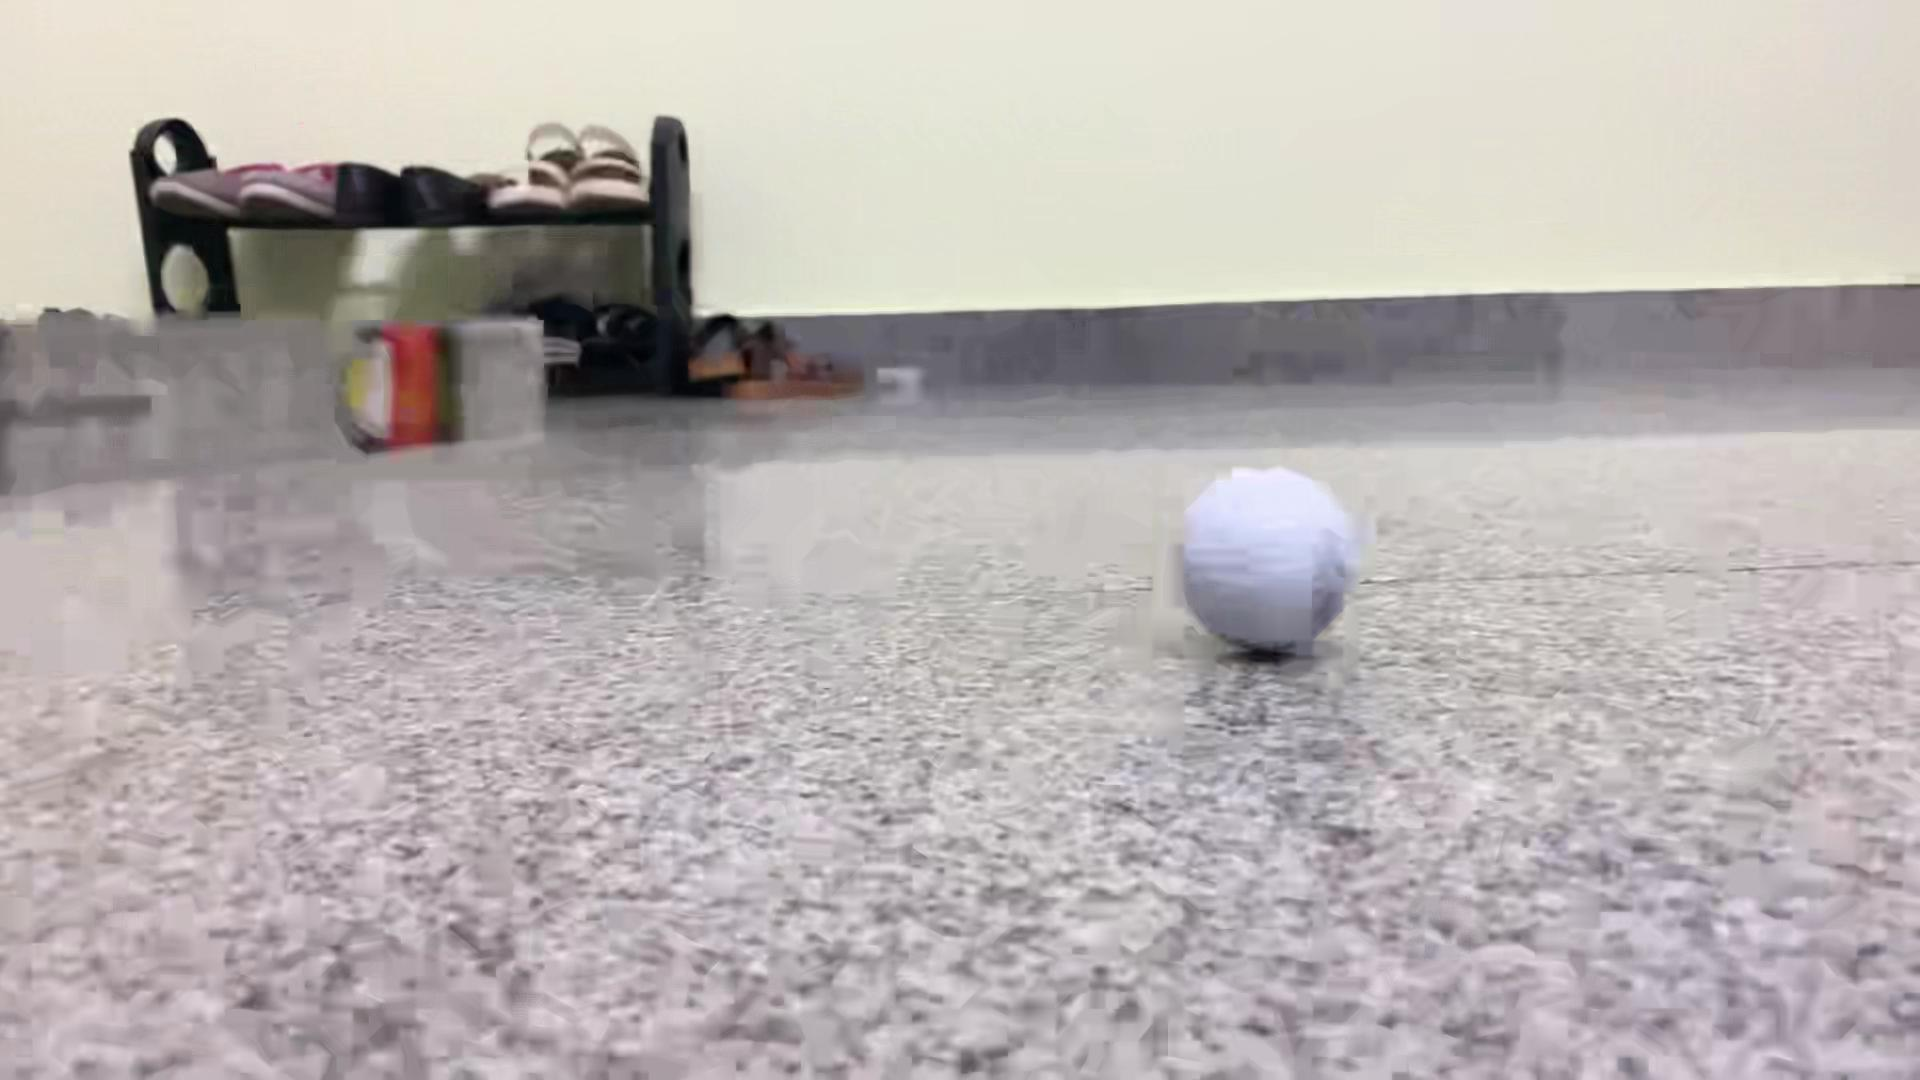golfball: (1176, 466, 1356, 652)
